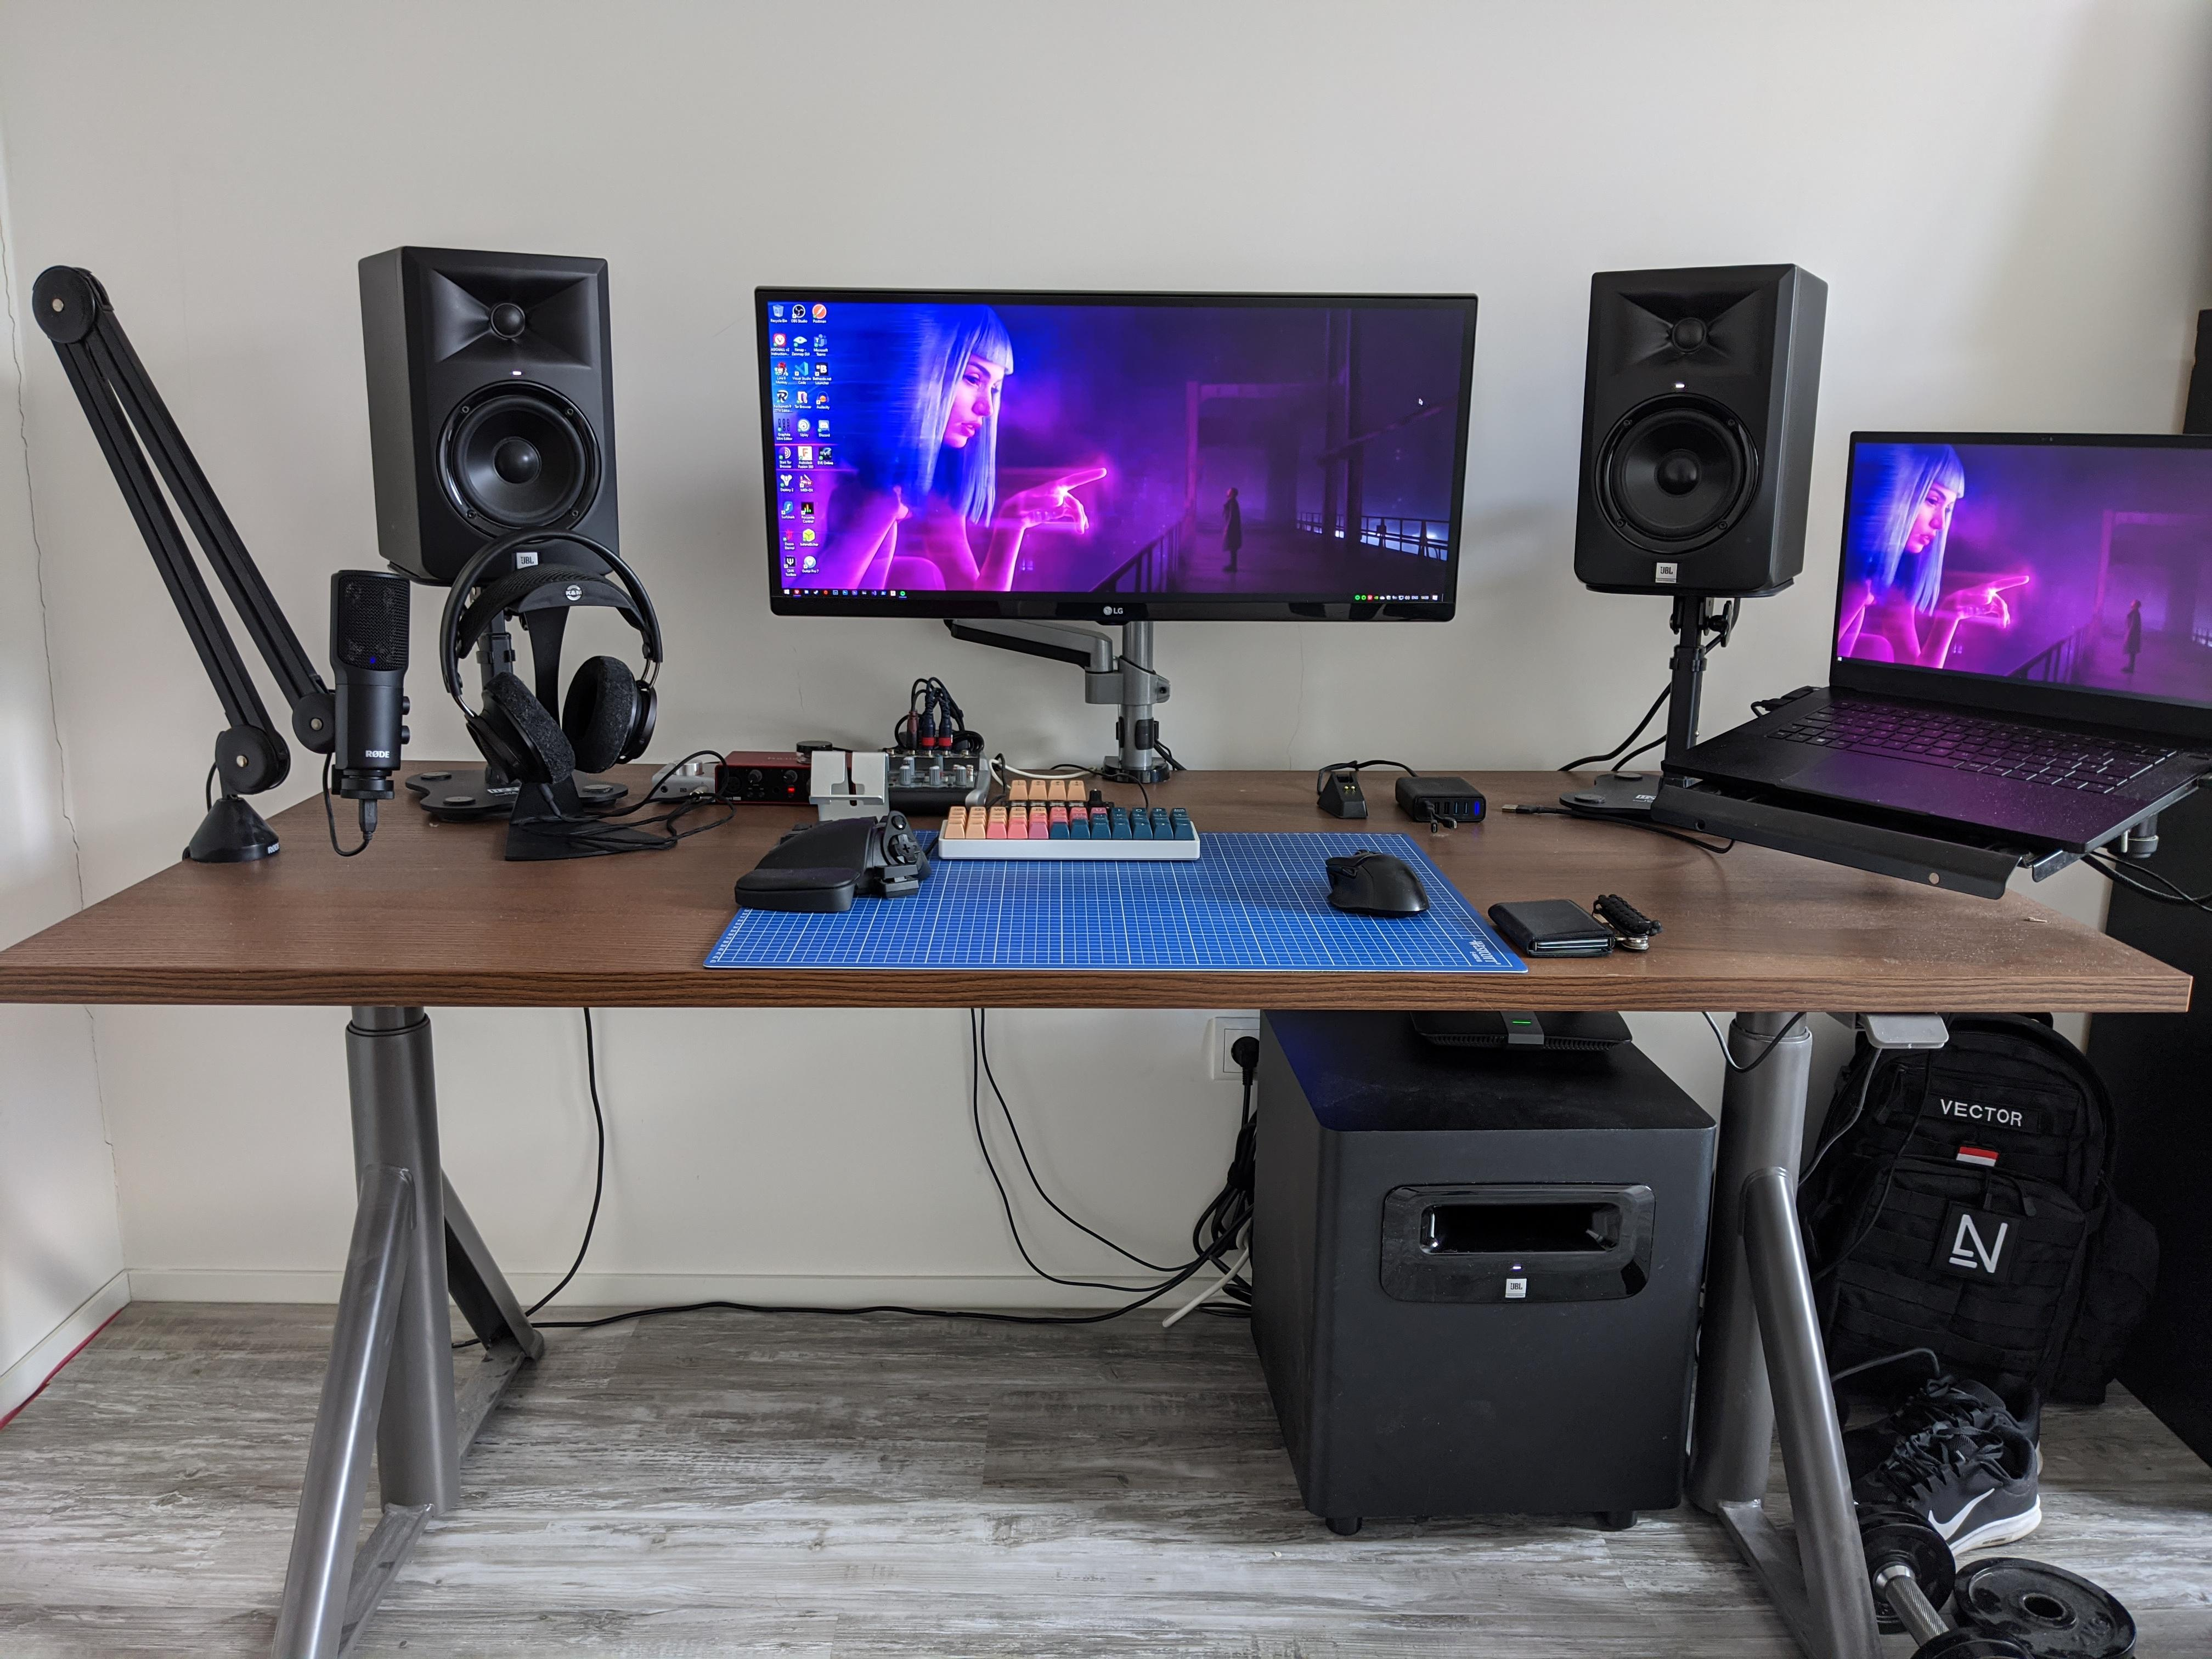Desk (Standing): (0, 753, 2189, 1642)
External Microphone (with Boom Arm): (0, 265, 404, 871)
External Sound Card (Pre-amplifier): (711, 749, 881, 809)
External Speakers (Subwoofers): (361, 237, 613, 579), (1571, 261, 1829, 596)
Headphones: (435, 528, 672, 775)
Keyboard (Generic): (937, 777, 1211, 866)
Laptop (Windows): (1662, 425, 2212, 887)
Monitor (Landscape): (752, 288, 1479, 624)
Monitor (Laptop): (1831, 416, 2212, 739)
Mouse (Gaming): (1320, 852, 1432, 918)
Mousepad (Gaming): (714, 823, 1533, 993)
Phone Holder: (806, 746, 892, 824)
Router: (1409, 1004, 1630, 1061)
USB Hub: (1393, 775, 1496, 819)
